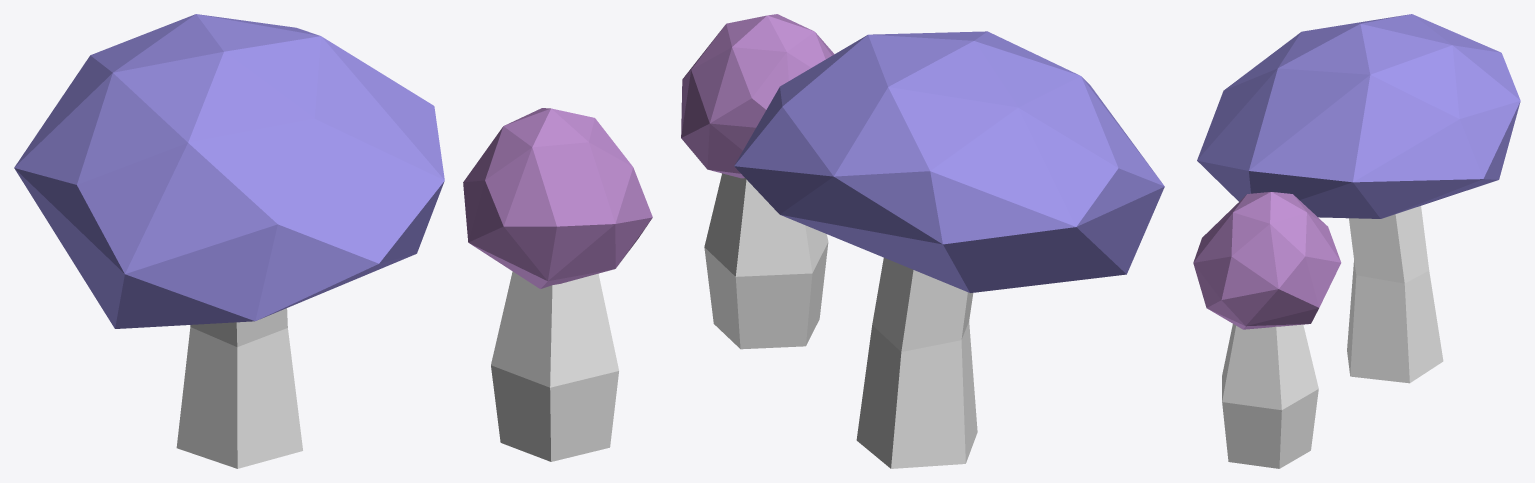
Rendered from Mushroom_k_08.fbx.
3 renders of one model, left to right at view 1: azimuth 30°, elevation 25°; view 2: azimuth 150°, elevation 25°; view 3: azimuth 270°, elevation 25°, orthographic. The views are drawn at different scales.
Parts seen in each view (by area): view 1: Mushroom_k_08; view 2: Mushroom_k_08; view 3: Mushroom_k_08.
Boxes of the visible parts, left/top/right/bottom form: Mushroom_k_08: left=14, top=14, right=652, bottom=468; Mushroom_k_08: left=681, top=14, right=1164, bottom=468; Mushroom_k_08: left=1193, top=14, right=1520, bottom=468.
Bounding box in the file's own units: 32.74 × 25.21 × 23.03.
